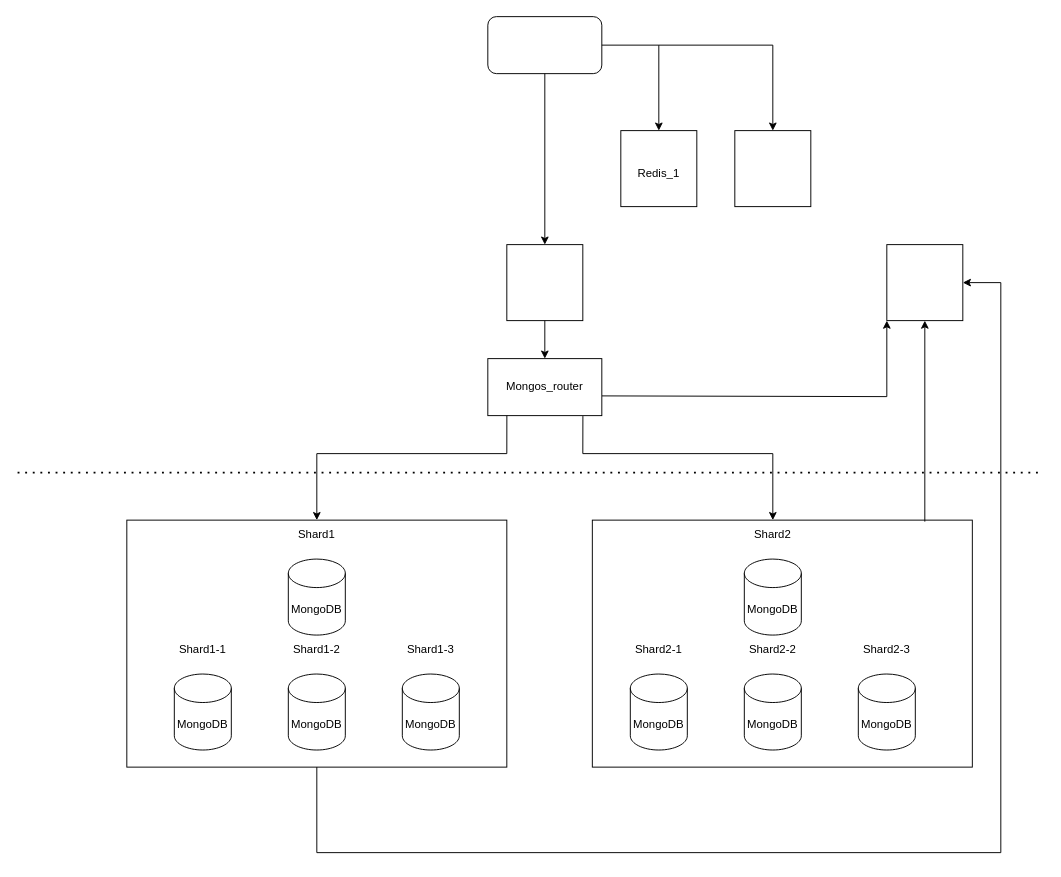
The diagram is 1061 pixels wide and 877 high, and some of its shapes have lost their labels. Each missing label, with the centre of its shape:
ConfigSrv: point (924, 282)
Driver: point (544, 282)
pymongo-api: point (544, 45)
Redis_2: point (772, 168)
